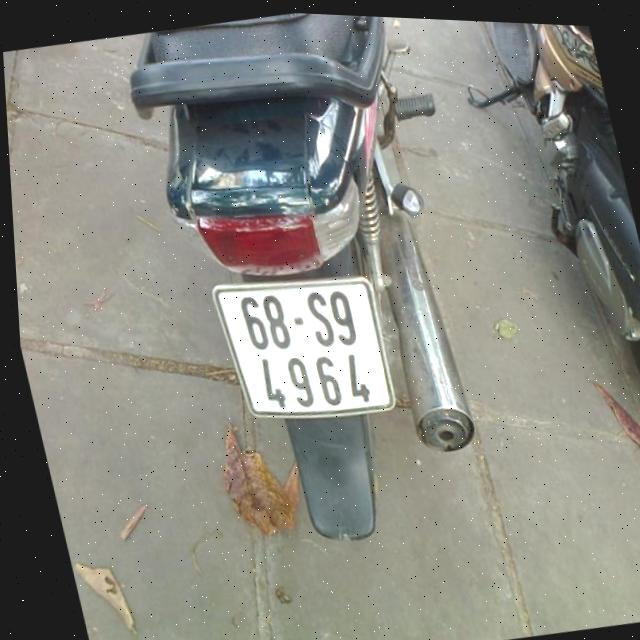motorcycle: (98, 4, 539, 578), (434, 19, 640, 513)
plate: (195, 246, 413, 445)
